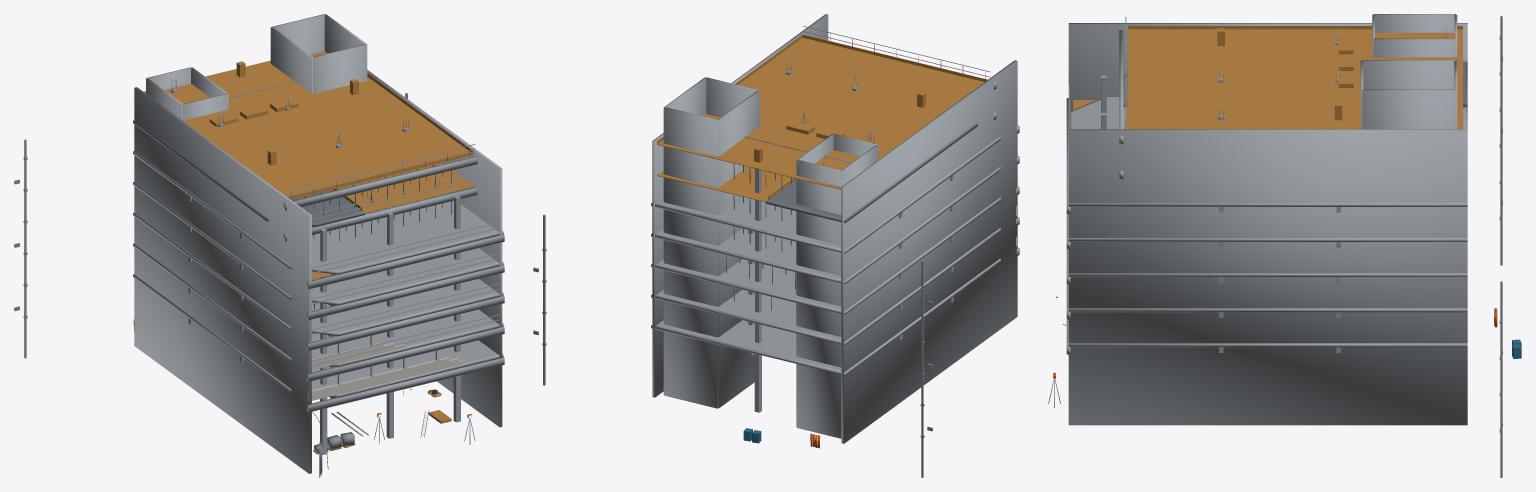
The model's file is login-site-architecture.glb.
3 renders of one model, left to right at view 1: azimuth 30°, elevation 25°; view 2: azimuth 150°, elevation 25°; view 3: azimuth 270°, elevation 25°, orthographic. The views are drawn at different scales.
Visible parts, largest first — view 1: architecture-conc, architecture-ply, architecture-galv, architecture-block; view 2: architecture-conc, architecture-ply, architecture-galv; view 3: architecture-conc, architecture-ply, architecture-galv.
Boxes of the visible parts, x1,y1,x2,y2 form: architecture-conc: (14,14,504,473); architecture-ply: (143,51,474,454); architecture-galv: (23,77,500,477); architecture-block: (307,335,463,401); architecture-conc: (533,14,1019,443); architecture-ply: (657,34,987,202); architecture-galv: (542,26,990,477); architecture-conc: (1066,14,1502,426); architecture-ply: (1073,26,1462,129); architecture-galv: (1048,16,1502,477).
Size of the model in its own units: 45.16 by 32.8 by 40.36.
